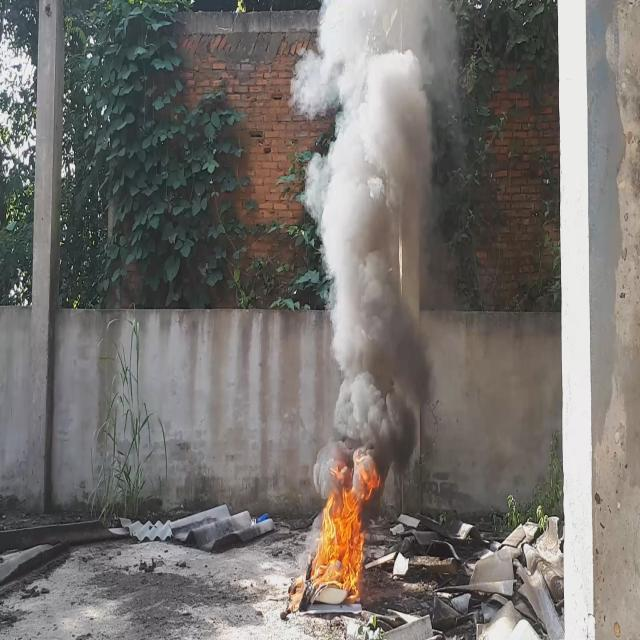Fire: (316, 452, 378, 586)
Smoke: (290, 0, 457, 498)
